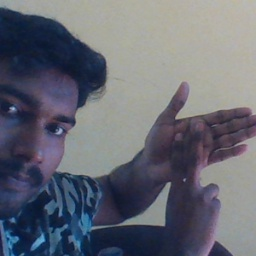N: (141, 79, 256, 221)
